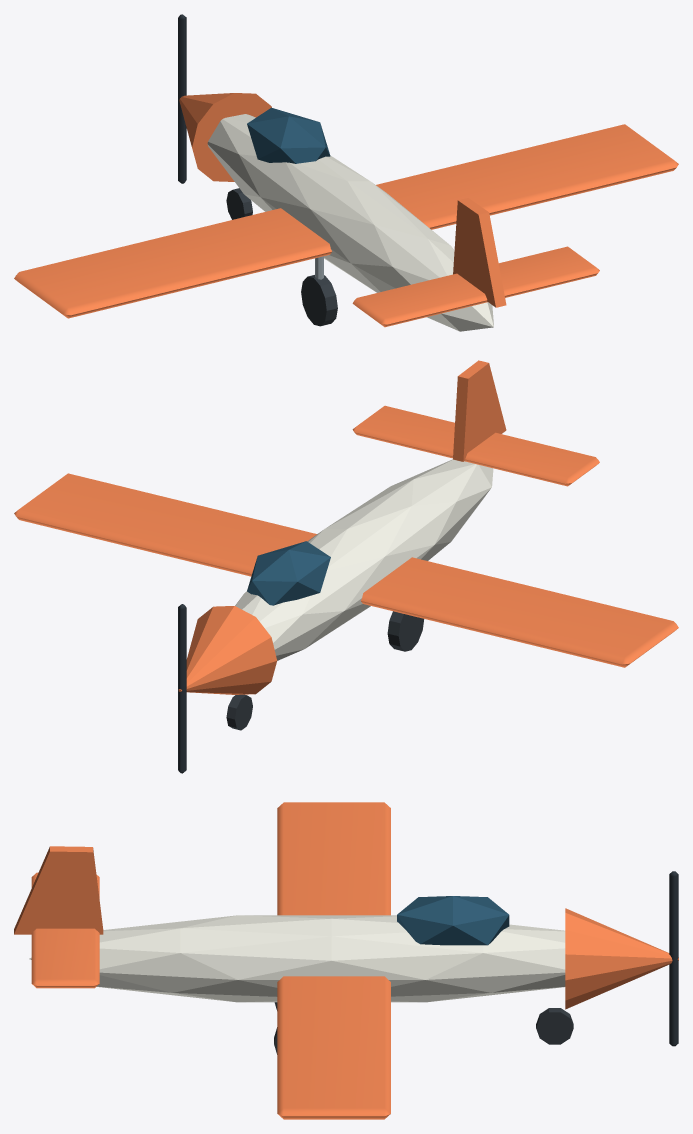
File: airplane.glb
3 views of the same model, one above another, from view 1: azimuth 30°, elevation 25°; view 2: azimuth 150°, elevation 25°; view 3: azimuth 270°, elevation 25° (orthographic). The views are drawn at different scales.
Parts seen in each view (by area): view 1: airplane_wing, airplane_fuselage, airplane_tailwing, airplane_fin, airplane_nose, airplane_canopy, airplane_gear, airplane_propeller, airplane_nose_gear; view 2: airplane_wing, airplane_fuselage, airplane_tailwing, airplane_nose, airplane_canopy, airplane_fin, airplane_propeller, airplane_gear, airplane_nose_gear; view 3: airplane_fuselage, airplane_wing, airplane_nose, airplane_fin, airplane_canopy, airplane_tailwing, airplane_propeller, airplane_nose_gear.
Part boxes in pixels (left/top/right/bottom): airplane_wing: left=14, top=124, right=678, bottom=318; airplane_fuselage: left=207, top=114, right=493, bottom=331; airplane_tailwing: left=352, top=246, right=599, bottom=327; airplane_fin: left=453, top=198, right=506, bottom=307; airplane_nose: left=179, top=93, right=271, bottom=181; airplane_canopy: left=247, top=107, right=330, bottom=163; airplane_gear: left=301, top=275, right=337, bottom=326; airplane_propeller: left=178, top=14, right=186, bottom=183; airplane_nose_gear: left=226, top=188, right=252, bottom=219; airplane_wing: left=14, top=473, right=678, bottom=667; airplane_fuselage: left=235, top=459, right=493, bottom=660; airplane_tailwing: left=352, top=405, right=599, bottom=486; airplane_nose: left=178, top=606, right=277, bottom=694; airplane_canopy: left=247, top=541, right=330, bottom=605; airplane_fin: left=453, top=360, right=506, bottom=461; airplane_propeller: left=178, top=604, right=186, bottom=773; airplane_gear: left=387, top=611, right=424, bottom=651; airplane_nose_gear: left=226, top=694, right=252, bottom=730; airplane_fuselage: left=29, top=915, right=565, bottom=1002; airplane_wing: left=277, top=802, right=390, bottom=1119; airplane_nose: left=565, top=908, right=678, bottom=1009; airplane_fin: left=14, top=846, right=103, bottom=934; airplane_canopy: left=397, top=896, right=509, bottom=945; airplane_tailwing: left=31, top=872, right=99, bottom=988; airplane_propeller: left=669, top=871, right=678, bottom=1046; airplane_nose_gear: left=536, top=1008, right=573, bottom=1044.
Bounding box in the file's own units: 9.4 × 2.77 × 8.5.
